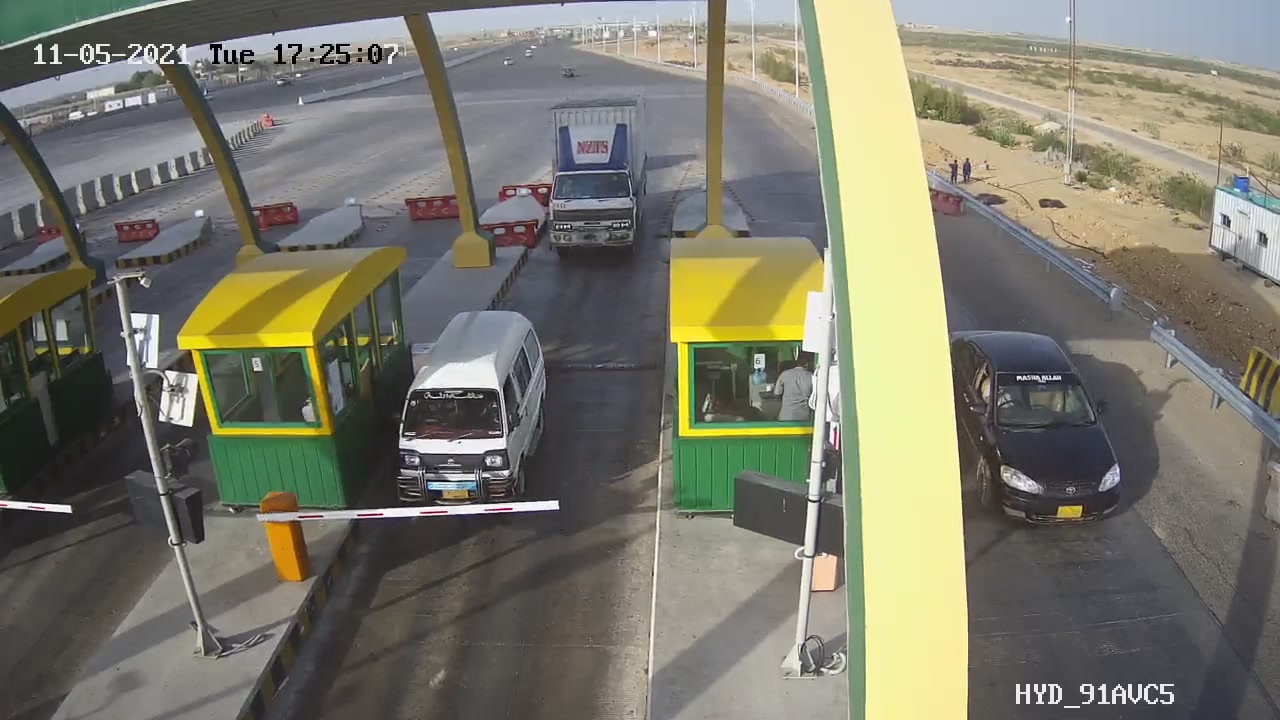F1: (365, 295, 569, 530)
